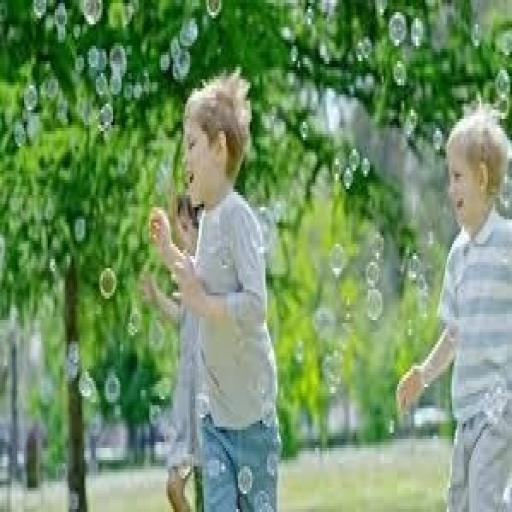running: (142, 70, 284, 509), (394, 101, 510, 509)
